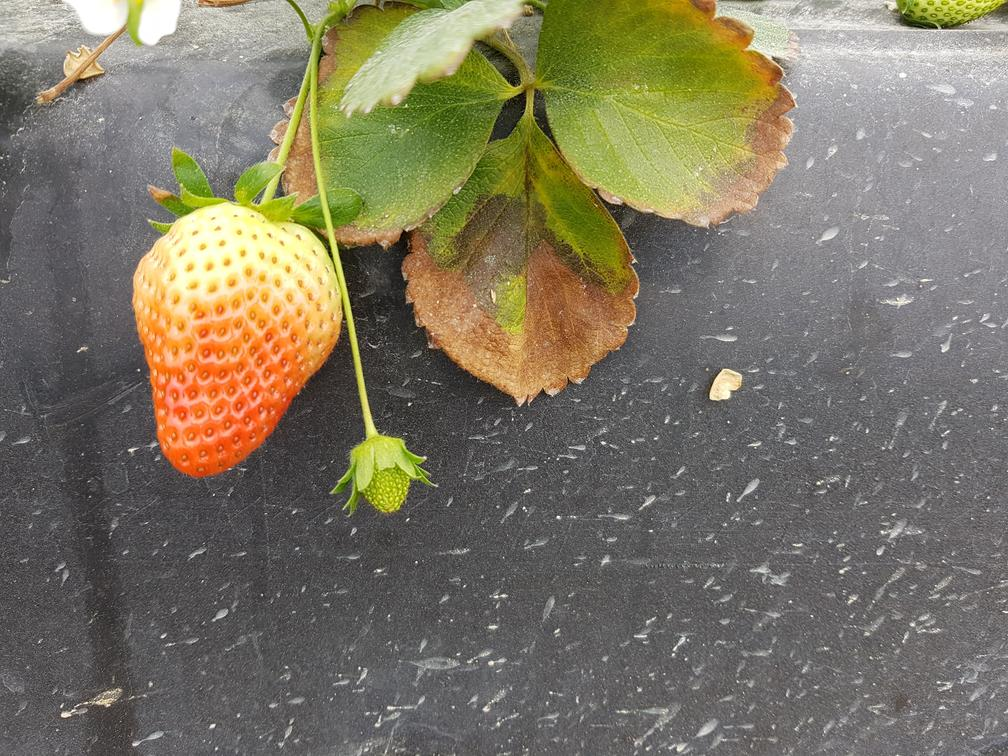Ripe: (108, 198, 349, 480)
Unripe: (355, 442, 418, 518)
